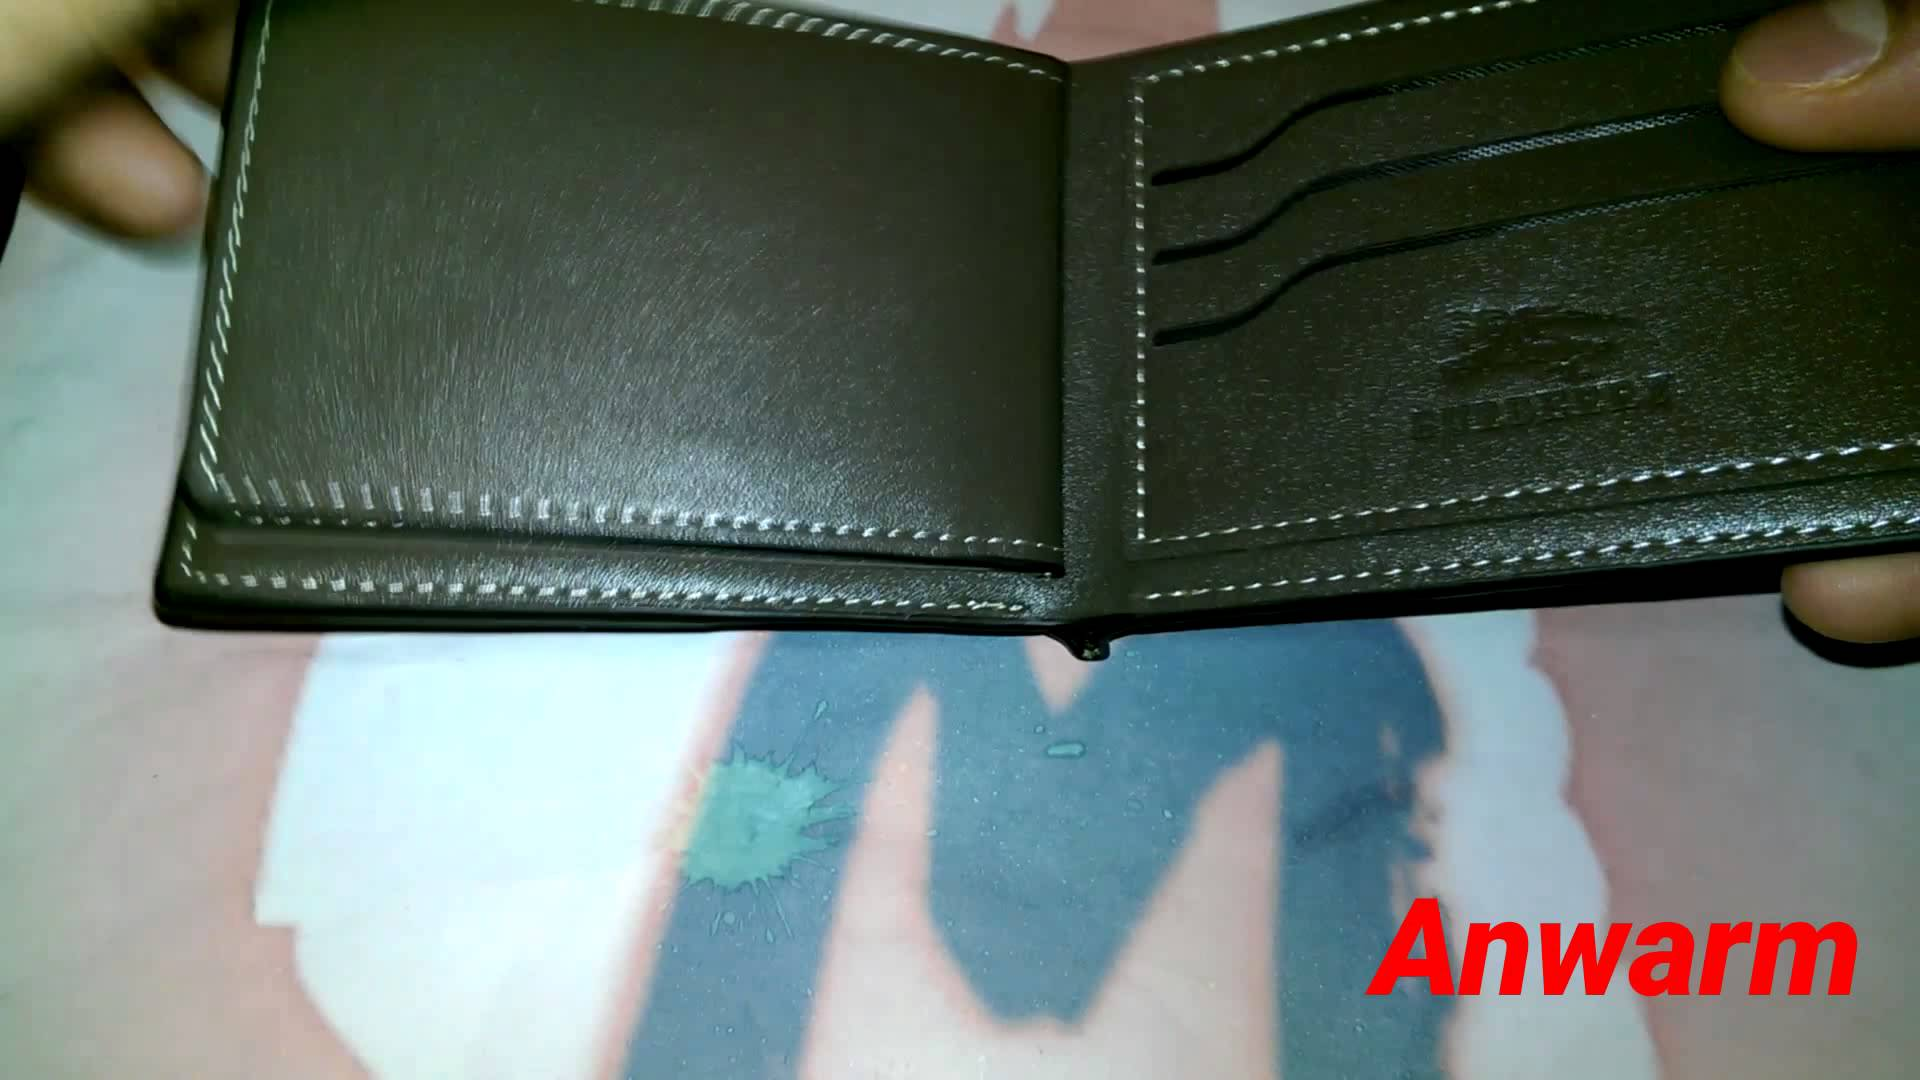monedero: (142, 1, 1920, 670)
